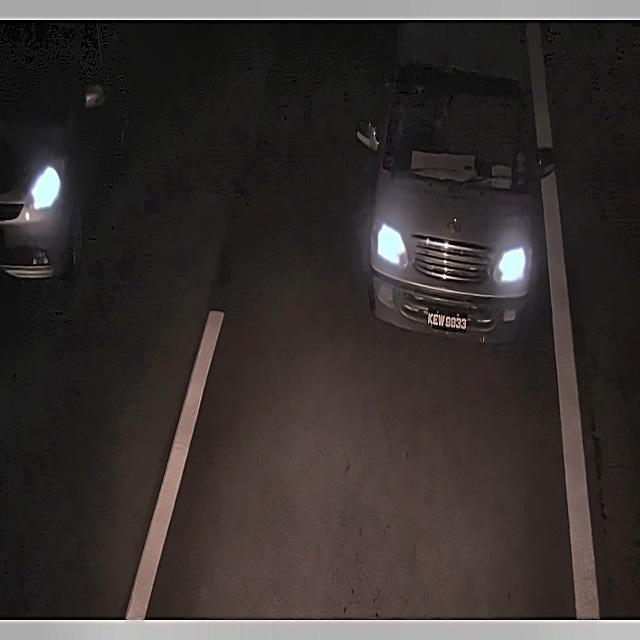car: (422, 304, 474, 340)
